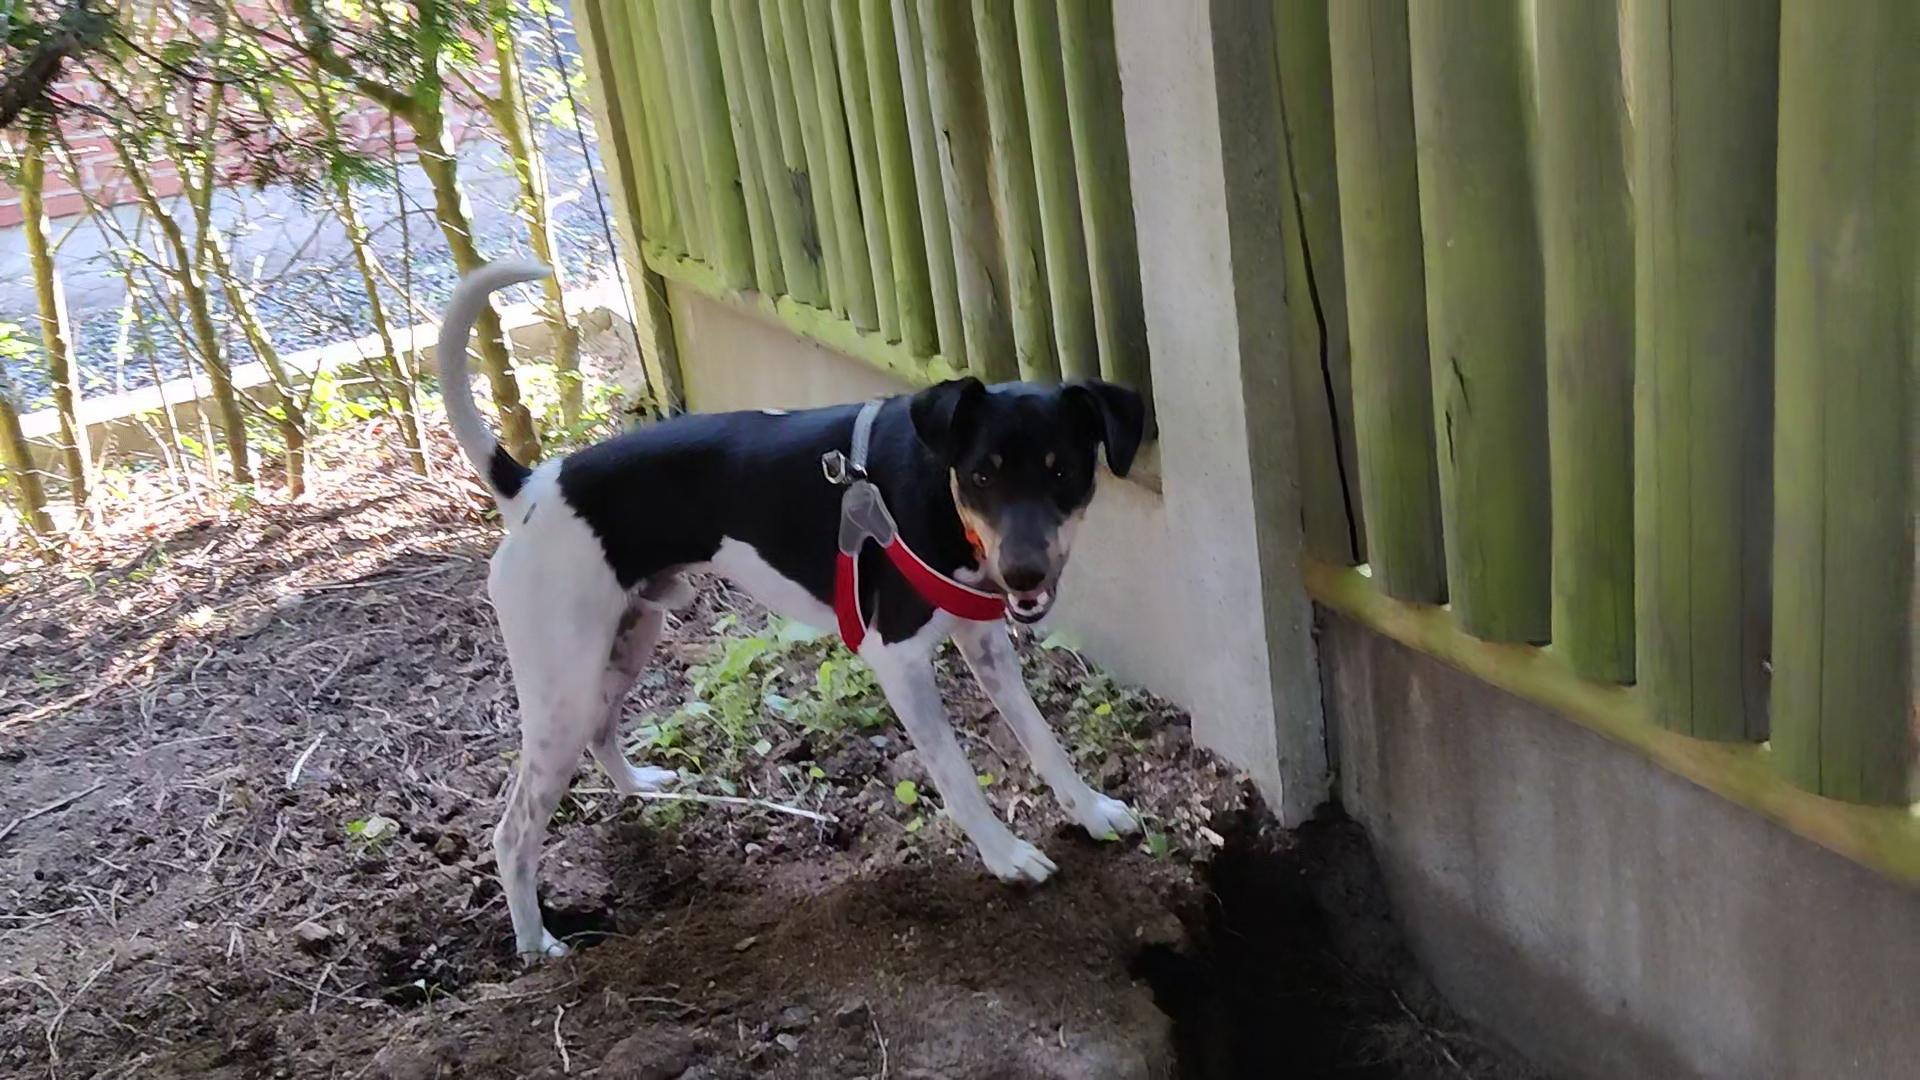Dog: (413, 252, 1182, 972)
